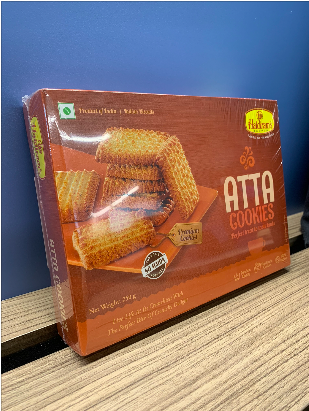Cookies_200-299g: (61, 103, 284, 294)
